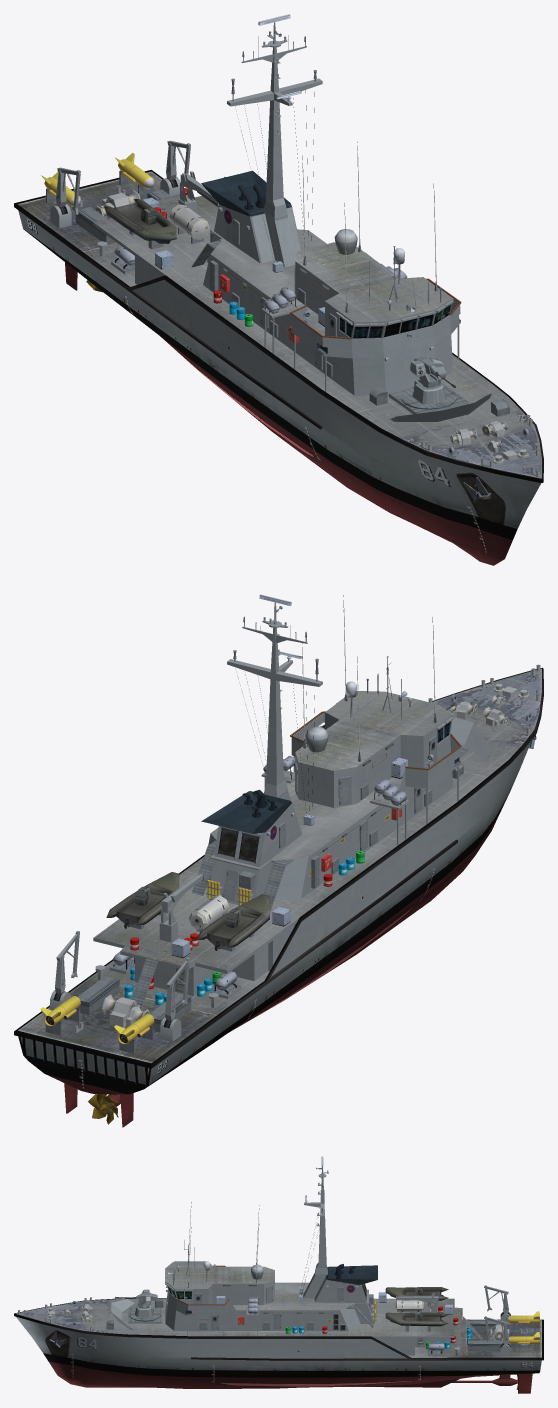
The model's file is msyongfeng.gltf.
The picture shows the model from 3 angles, top to bottom: view 1: azimuth 30°, elevation 25°; view 2: azimuth 150°, elevation 25°; view 3: azimuth 270°, elevation 25°; orthographic projection. The views are drawn at different scales.
Visible parts, largest first — view 1: SLT_1; view 2: SLT_1; view 3: SLT_1.
Part boxes in pixels (x1=…): SLT_1: x1=14, y1=14, x2=543, y2=565; SLT_1: x1=14, y1=594, x2=543, y2=1127; SLT_1: x1=14, y1=1156, x2=543, y2=1393.
Bounding box in the file's own units: 1.78 × 4.86 × 10.17.
Materials: 1 (1 with a texture image).
